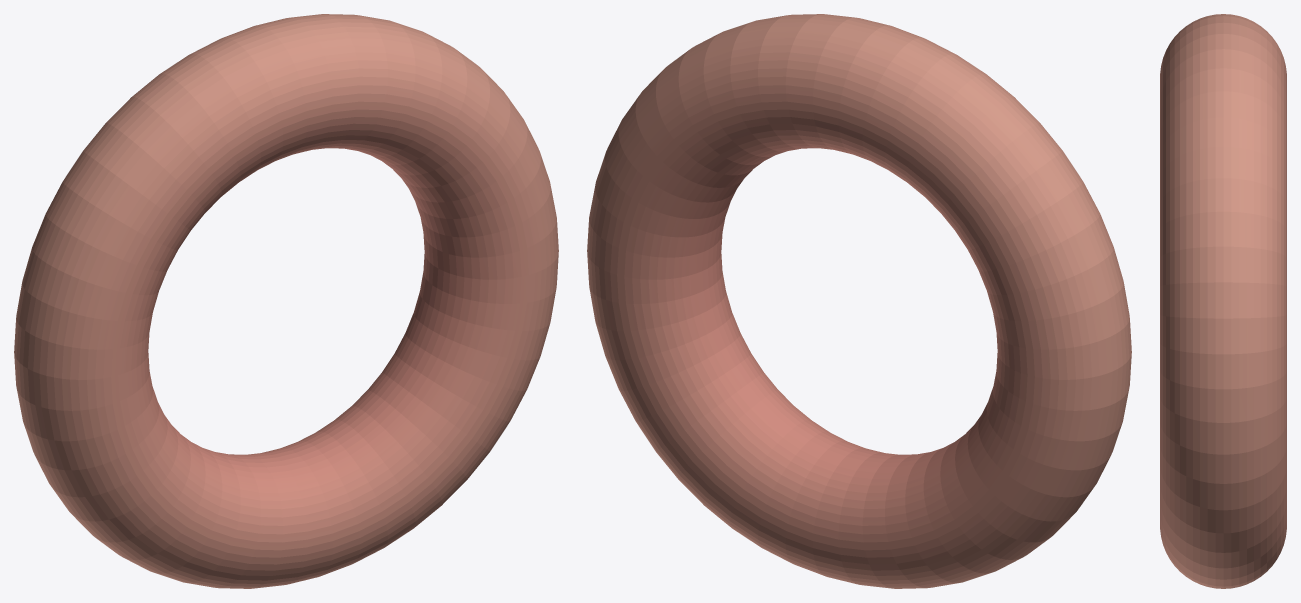
3 views of the same model, side by side, from view 1: azimuth 30°, elevation 25°; view 2: azimuth 150°, elevation 25°; view 3: azimuth 270°, elevation 25° (orthographic). The views are drawn at different scales.
Visible parts, largest first — view 1: world; view 2: world; view 3: world.
Part boxes in pixels (x1,y1,x2,y2): world: (14, 14, 558, 588); world: (587, 14, 1131, 588); world: (1160, 14, 1286, 588).
Bounding box in the file's own units: 30.8 × 30.74 × 6.79.
